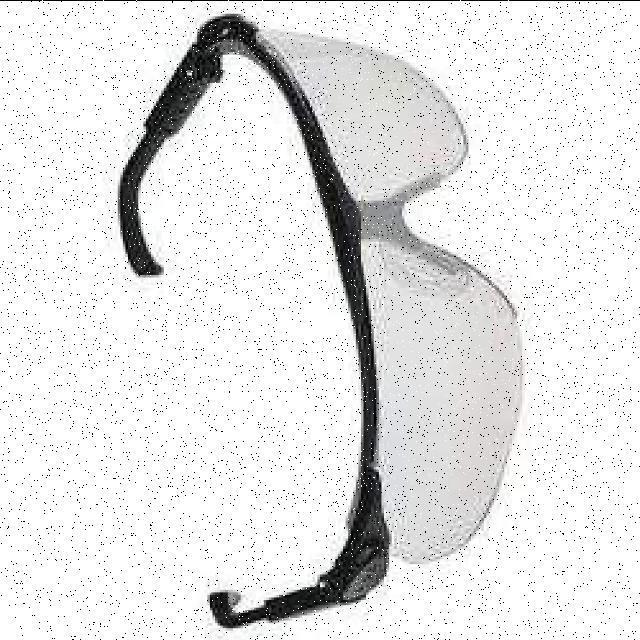Goggles: (27, 14, 558, 341)
